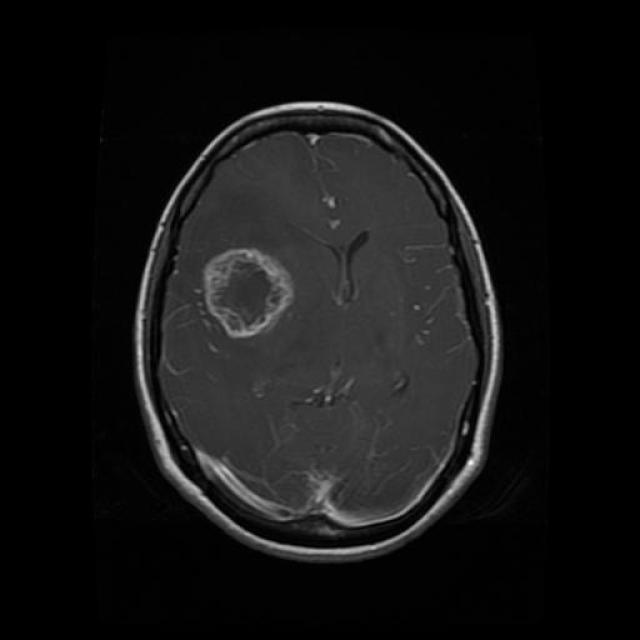Tumor-Cell: (192, 244, 309, 349)
